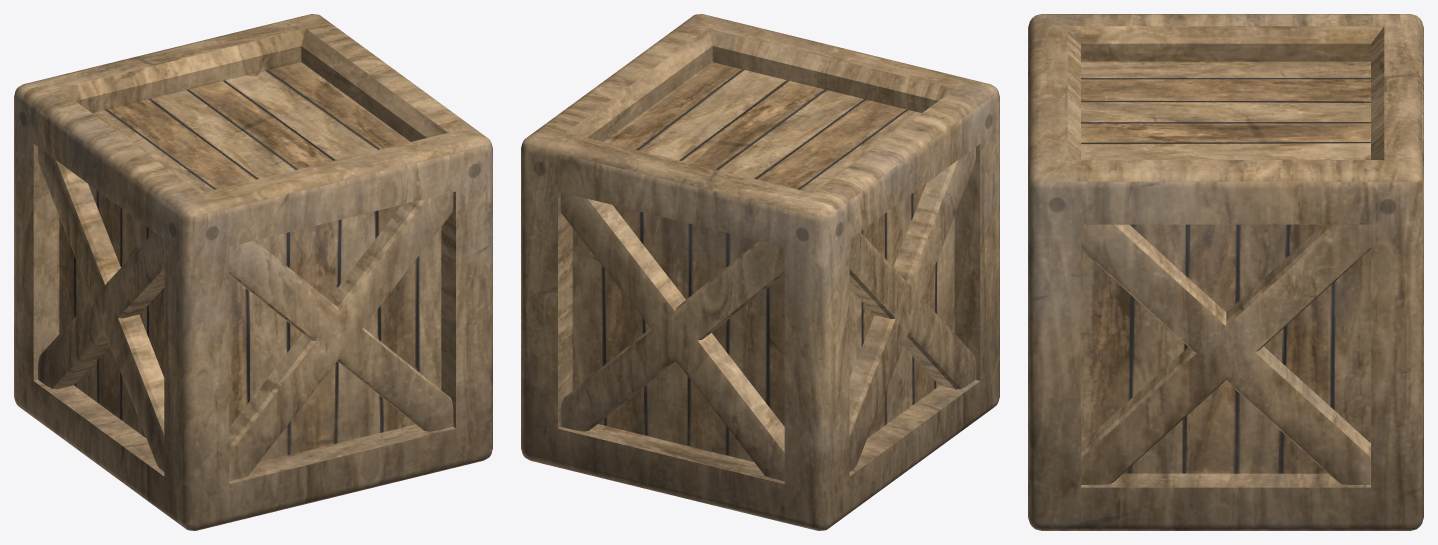
File: Crate_20230306.fbx
3 views of the same model, side by side, from view 1: azimuth 30°, elevation 25°; view 2: azimuth 150°, elevation 25°; view 3: azimuth 270°, elevation 25° (orthographic). The views are drawn at different scales.
Visible parts, largest first — view 1: Crate; view 2: Crate; view 3: Crate.
Part boxes in pixels (x1=…): Crate: x1=14, y1=14, x2=492, y2=530; Crate: x1=521, y1=14, x2=999, y2=530; Crate: x1=1028, y1=14, x2=1423, y2=530.
Size of the model in its own units: 200 by 200 by 200.
